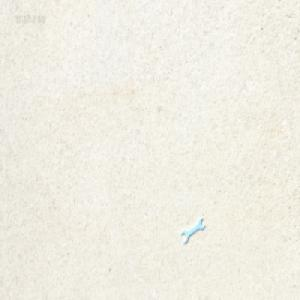Wrench: (181, 214, 205, 241)
